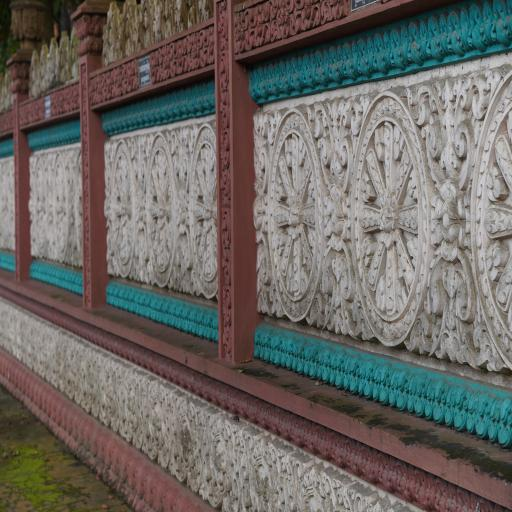hoa: (351, 101, 431, 339), (470, 66, 512, 373), (268, 116, 323, 317), (188, 126, 222, 310), (144, 132, 180, 286), (107, 140, 141, 276), (252, 7, 268, 46), (274, 0, 290, 34), (298, 0, 315, 26), (234, 15, 246, 48)
la: (469, 390, 494, 440), (447, 380, 472, 428), (388, 365, 414, 410), (406, 371, 433, 414), (372, 360, 396, 407), (429, 377, 452, 425), (492, 395, 512, 450), (338, 349, 362, 391), (356, 356, 378, 400), (324, 346, 347, 387)
